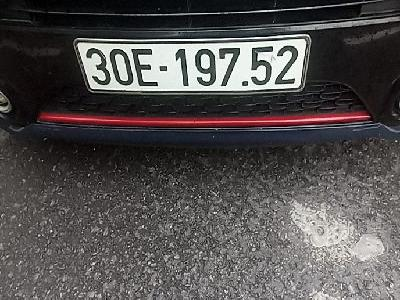number: (73, 34, 307, 94)
